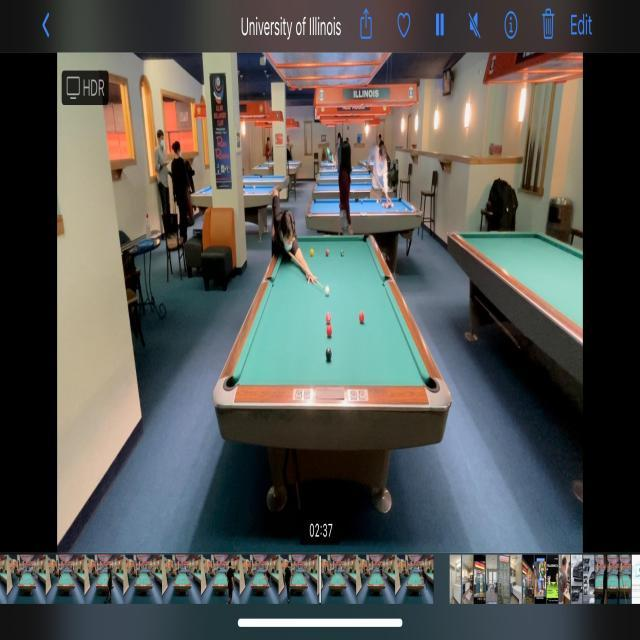Ball: (326, 348, 332, 362), (327, 324, 332, 338), (359, 312, 364, 324), (326, 312, 331, 324), (325, 286, 330, 296), (310, 248, 314, 256), (341, 250, 344, 256), (326, 248, 328, 256)
Pocket: (420, 374, 440, 394), (223, 374, 240, 392), (380, 274, 392, 288), (266, 274, 276, 288), (362, 232, 370, 242)
